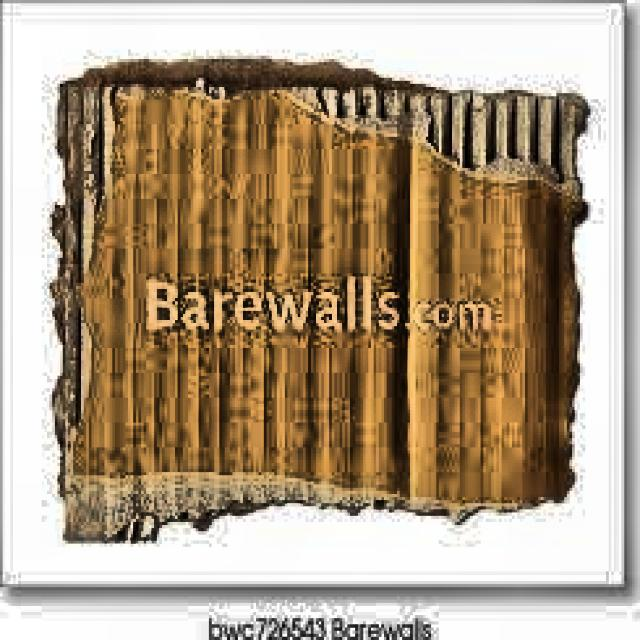Cardbox: (33, 42, 607, 568)
